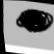correct: (13, 5, 54, 37)
